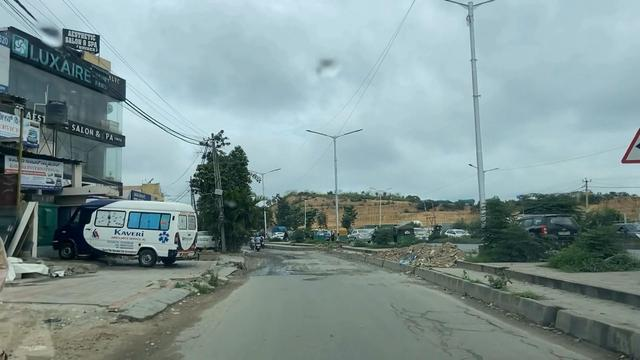RoadDamages: (467, 309, 552, 360), (399, 300, 461, 355), (263, 258, 330, 287)
